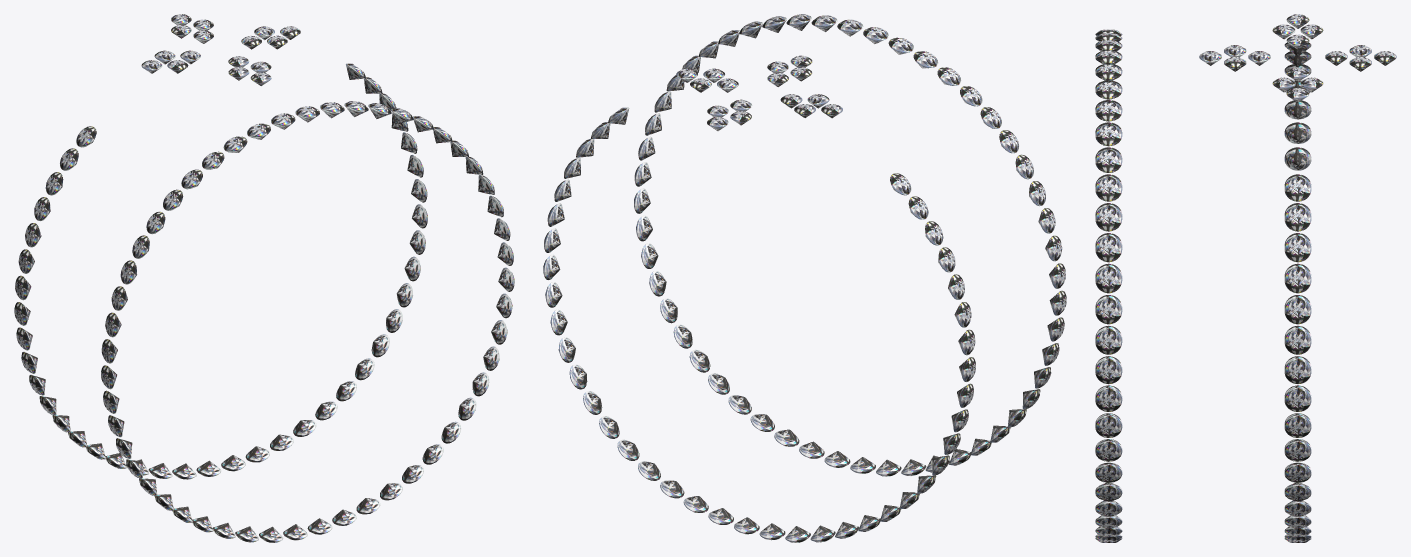
File: STONES 8.fbx
3 renders of one model, left to right at view 1: azimuth 30°, elevation 25°; view 2: azimuth 150°, elevation 25°; view 3: azimuth 270°, elevation 25°, orthographic. The views are drawn at different scales.
Visible parts, largest first — view 1: no part large enough to name; view 2: no part large enough to name; view 3: Object_25, Object_26, Object_24, Object_74, Object_73, Object_75, Object_72, Object_27, Object_23, Object_76, Object_28, Object_71 (+19 smaller).
Part boxes in pixels (bbox=[...]): Object_25: bbox=[1284, 266, 1311, 293]; Object_26: bbox=[1284, 297, 1311, 324]; Object_24: bbox=[1284, 235, 1311, 262]; Object_74: bbox=[1095, 266, 1122, 293]; Object_73: bbox=[1095, 297, 1122, 324]; Object_75: bbox=[1095, 235, 1122, 262]; Object_72: bbox=[1095, 328, 1122, 354]; Object_27: bbox=[1284, 328, 1311, 354]; Object_23: bbox=[1284, 205, 1311, 231]; Object_76: bbox=[1095, 205, 1122, 231]; Object_28: bbox=[1284, 358, 1311, 383]; Object_71: bbox=[1095, 358, 1122, 384].
Bounding box in the file's own units: 20.95 × 12.3 × 20.95.
Materials: 1 (1 with a texture image).
